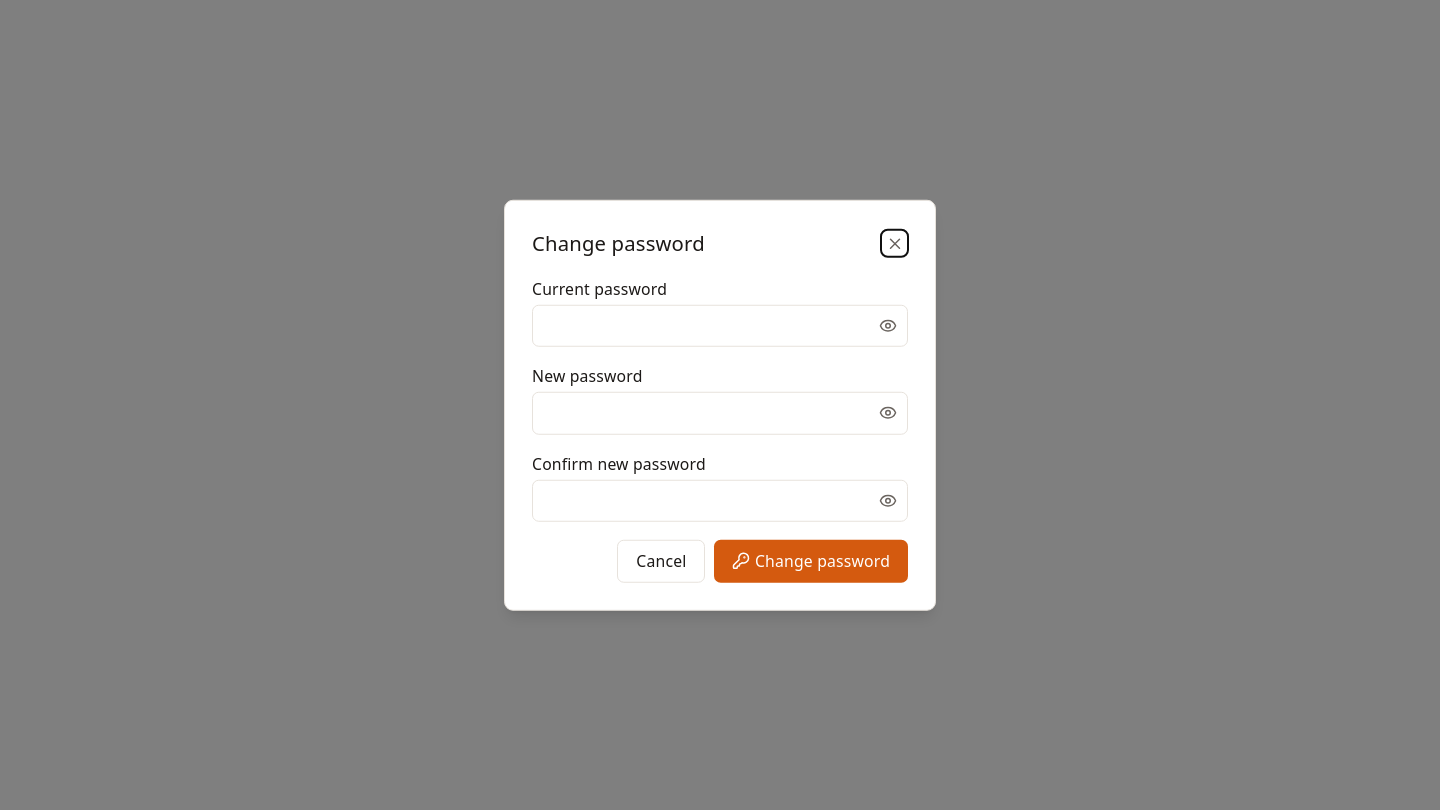
it: ChangePasswordDialog › shows a validation error and does not submit when the new passwords do not match
In the password field labelled "Current password": (720, 326) [532,304,908,347], type "old-password"
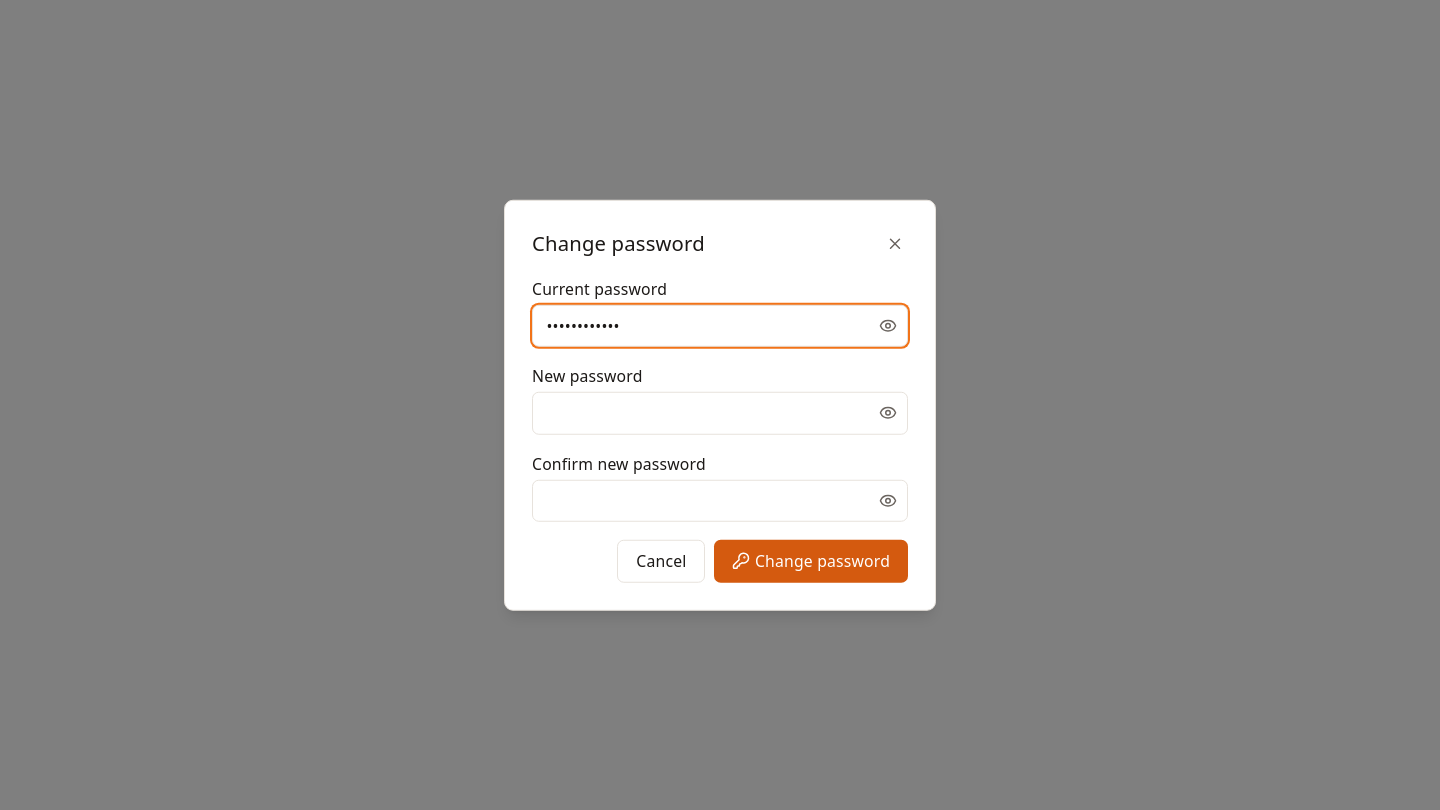
In the password field labelled "New password": (720, 413) [532,392,908,434], type "new-password"
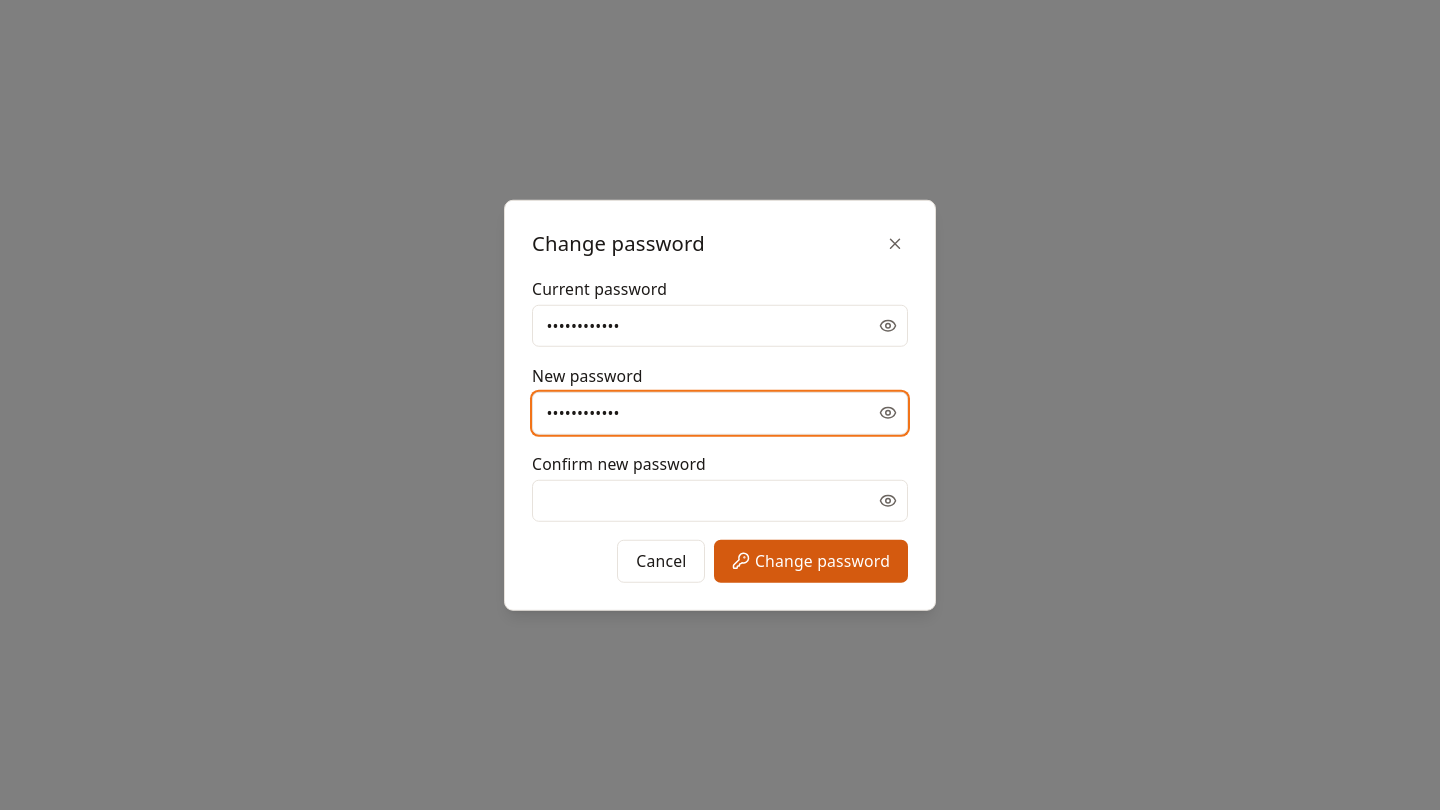
In the password field labelled "Confirm new password": (720, 501) [532,479,908,522], type "a-different-password"
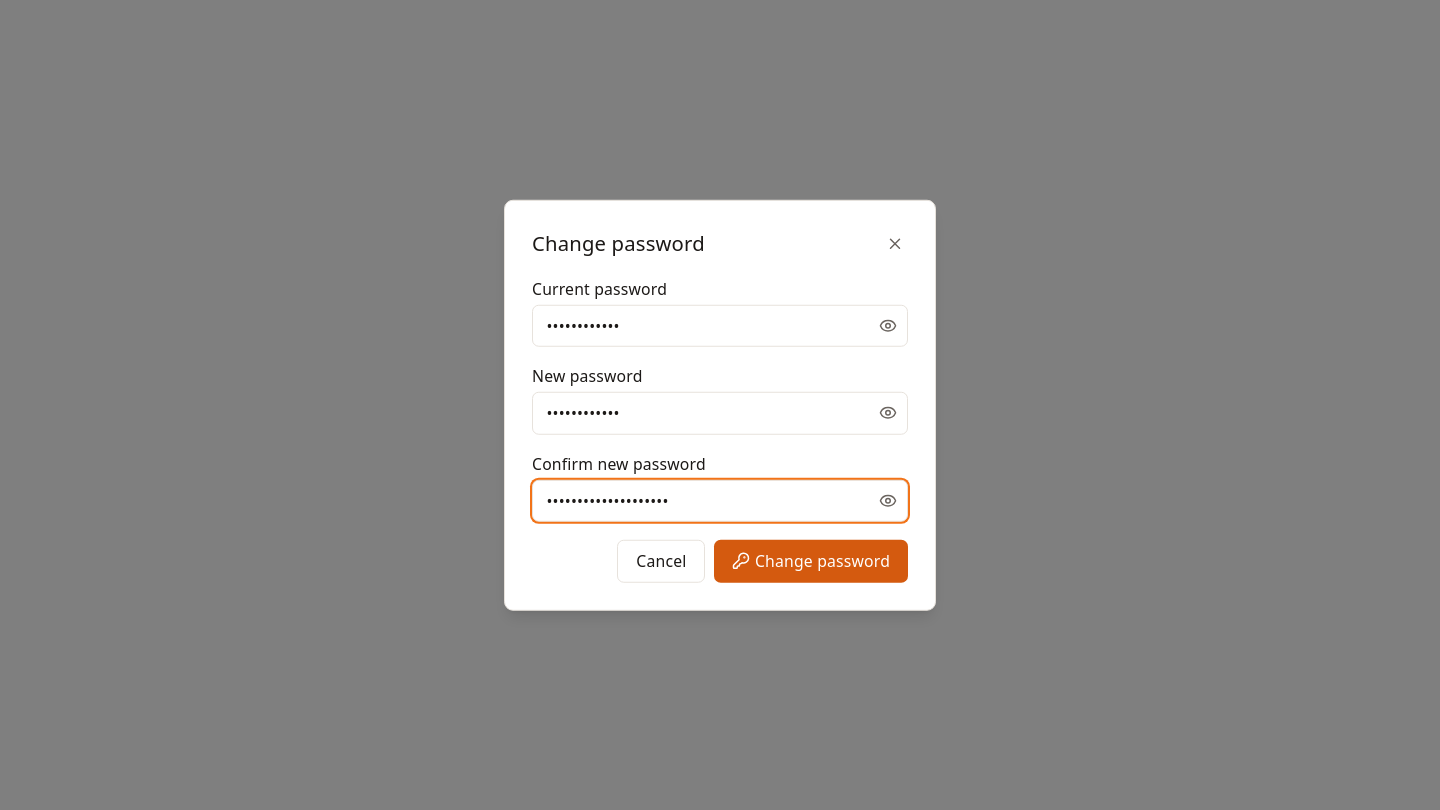
Click the button "Change password": click(811, 561) [714,540,908,582]
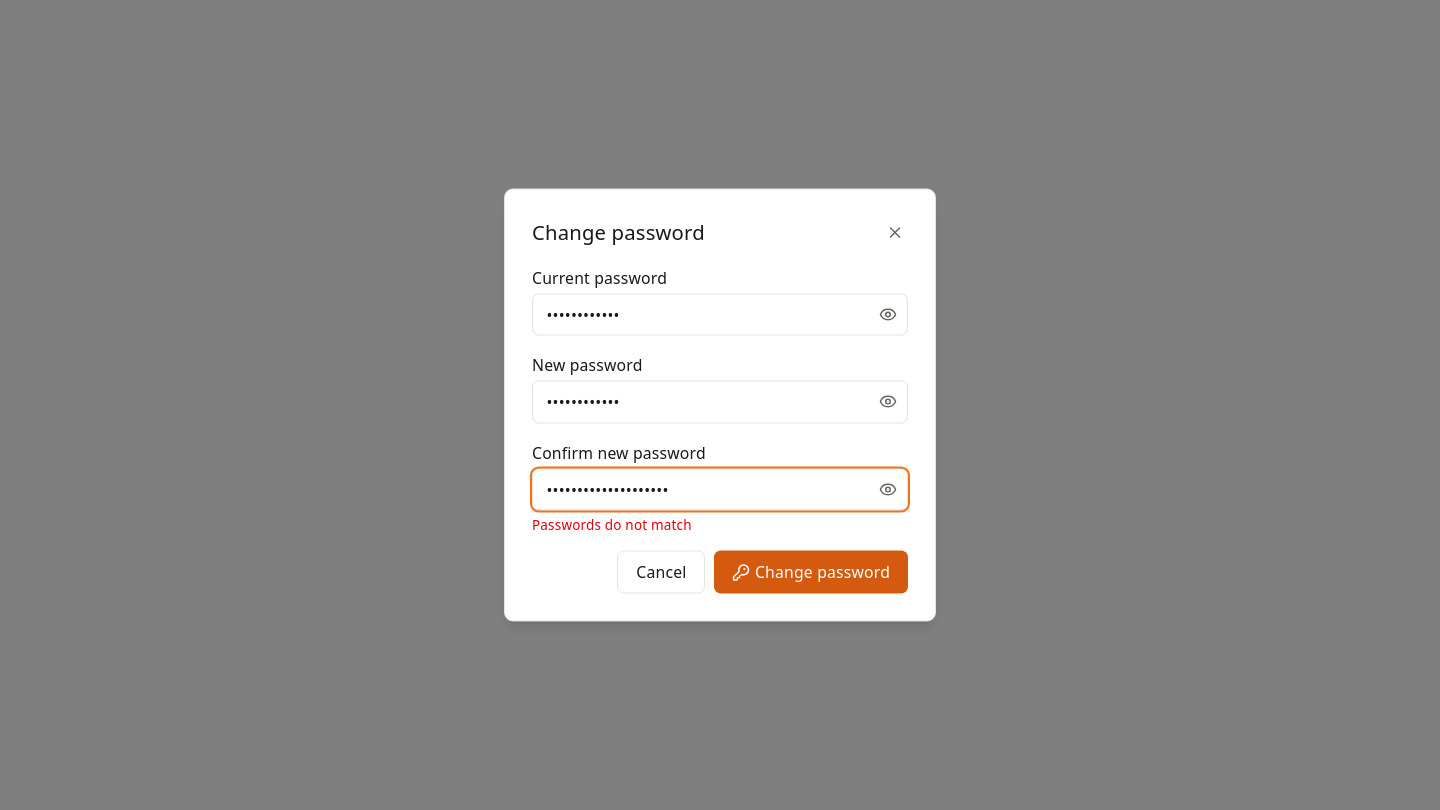
Expected: the text "Passwords do not match" is shown, [532,515,692,533]
